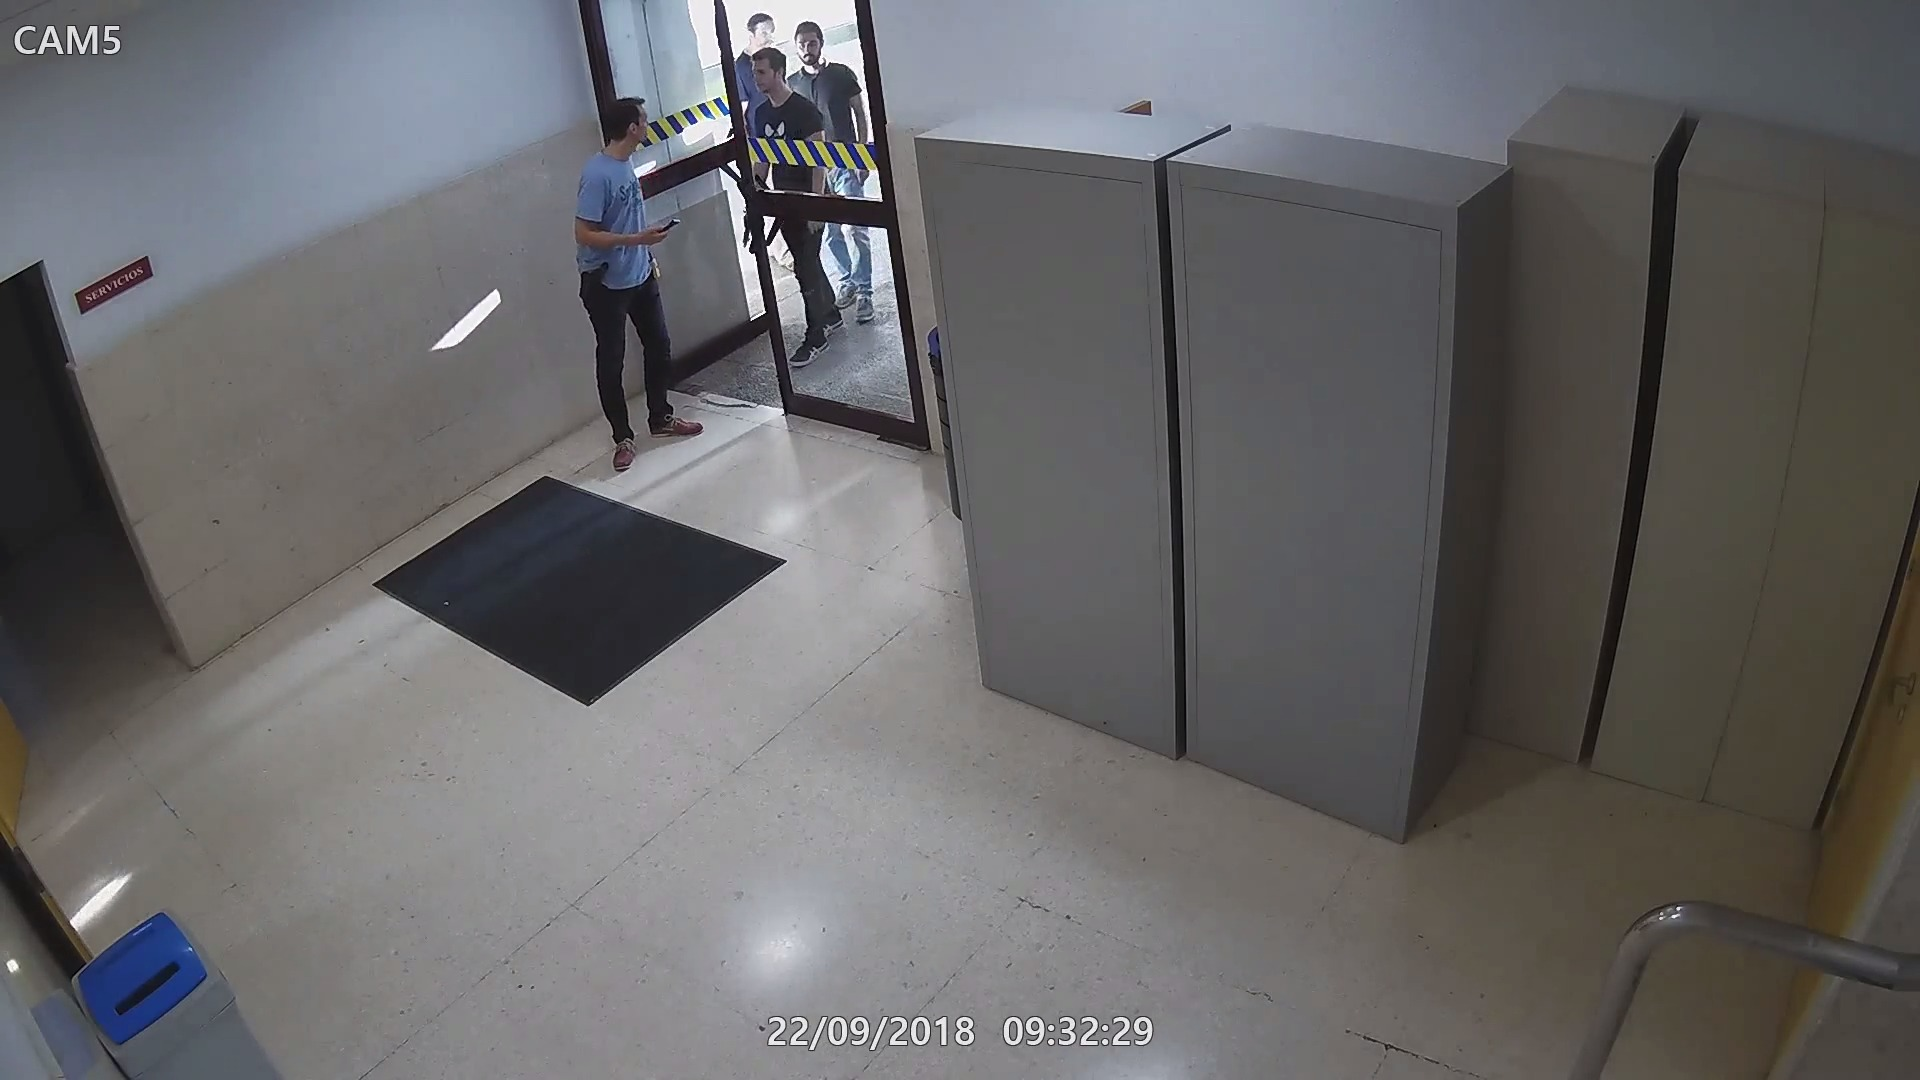pistol: (733, 210, 760, 244)
